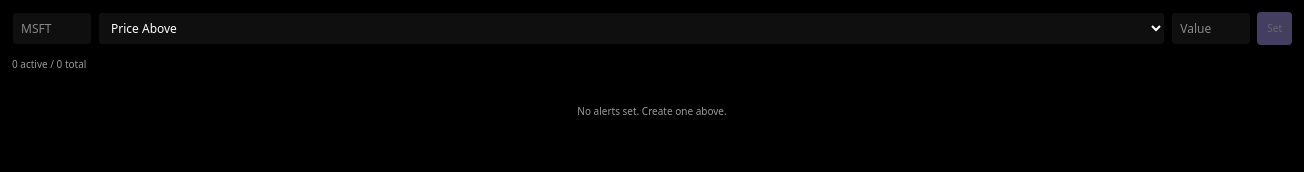
Scenario: ScheduledAlerts › can delete an alert
Type "300" into the number field with placeholder "Value" at [1211, 28], box [1171,12,1251,45]
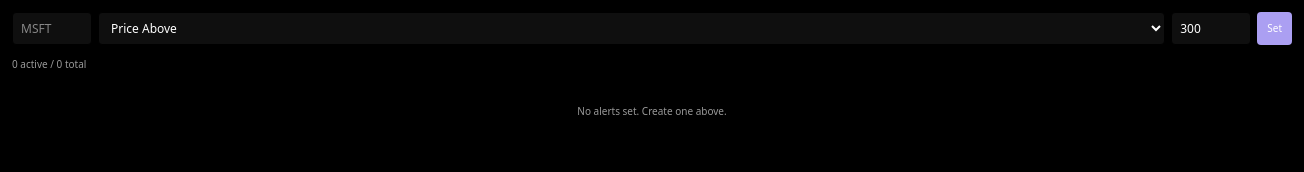
Click the button "Set" at [1275, 28], box [1257,12,1292,45]
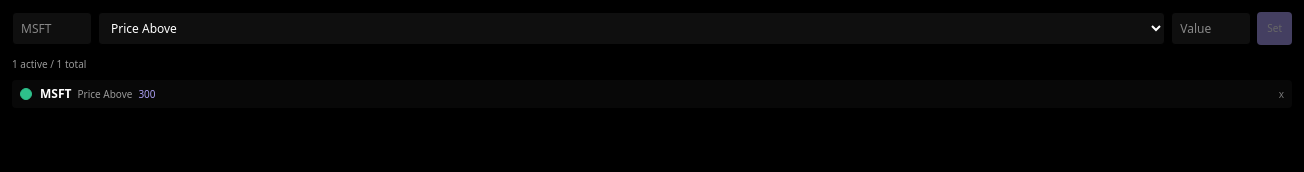
Result: the text "1 active / 1 total" is shown at [12,57,86,72]
# Click the delete button (x)
Click the button "x" at [1281, 94], box [1279,86,1284,102]
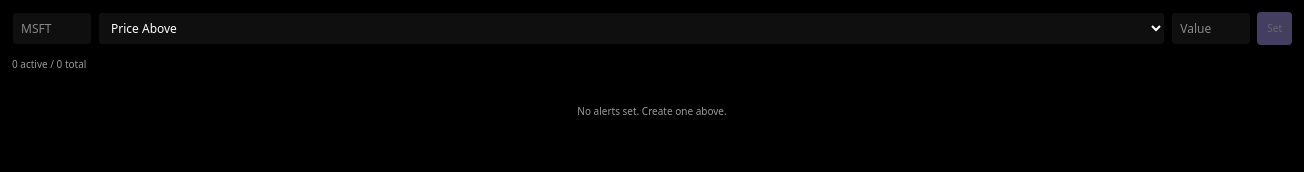
Result: the text "0 active / 0 total" is shown at [12,57,86,72]
